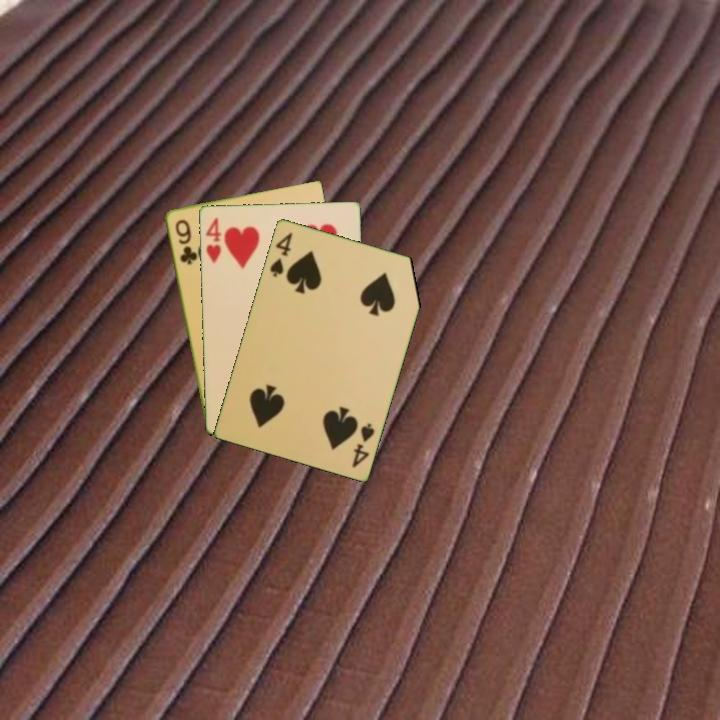4h: (202, 213, 224, 265)
4s: (348, 419, 377, 470), (266, 229, 295, 279)
9c: (171, 216, 198, 268)
